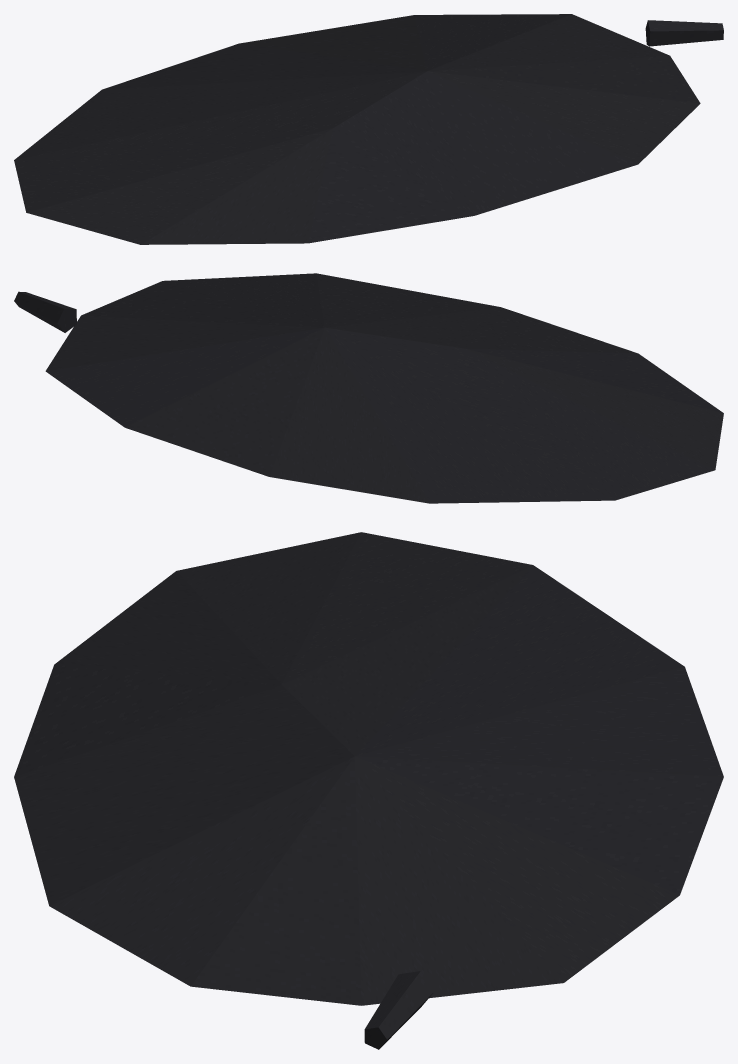
The model's file is bag_garbage.glb.
3 views of the same model, one above another, from view 1: azimuth 30°, elevation 25°; view 2: azimuth 150°, elevation 25°; view 3: azimuth 270°, elevation 25° (orthographic). The views are drawn at different scales.
Parts seen in each view (by area): view 1: block_bag, block_tie; view 2: block_bag, block_tie; view 3: block_bag, block_tie.
Part boxes in pixels (x1=…): block_bag: x1=14, y1=14, x2=700, y2=244; block_tie: x1=645, y1=20, x2=723, y2=46; block_bag: x1=45, y1=273, x2=723, y2=503; block_tie: x1=14, y1=291, x2=76, y2=332; block_bag: x1=14, y1=532, x2=723, y2=1005; block_tie: x1=364, y1=971, x2=434, y2=1049.
Size of the model in its own units: 0.4589 by 0.0302 by 0.266.
1 material, 1 textured.
